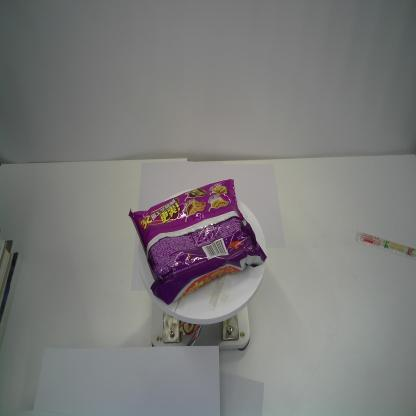Instant Noodles: (128, 178, 268, 306)
